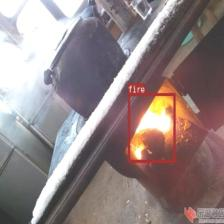fire: (128, 92, 175, 162)
